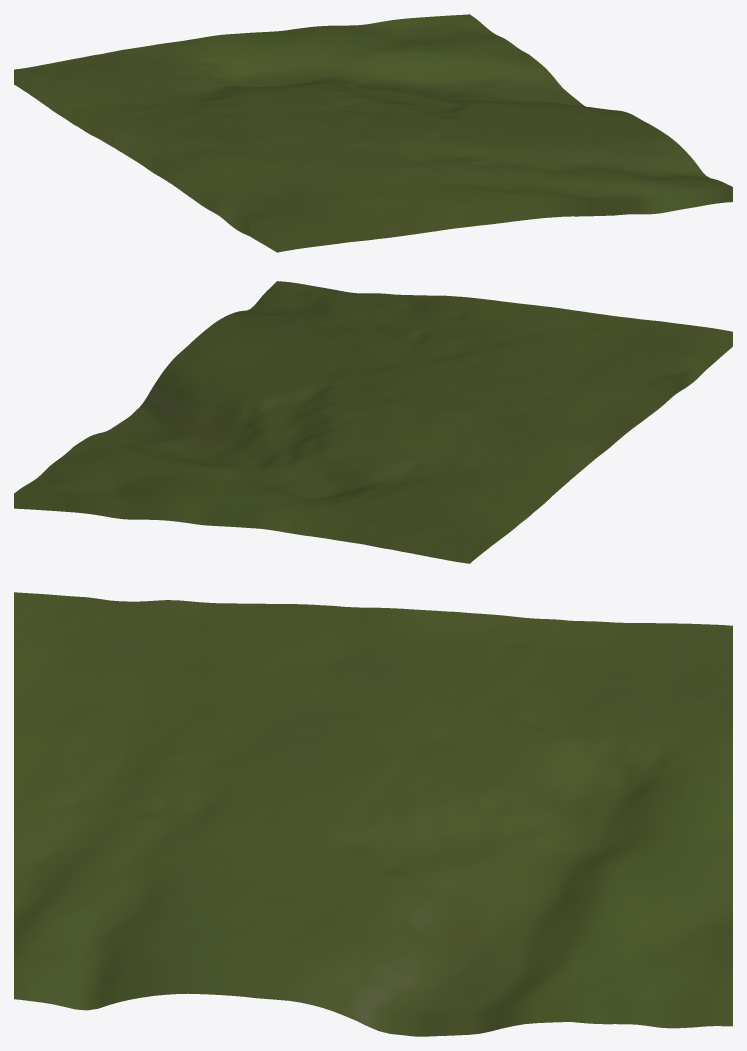
Rendered from terrain_6_-19.glb.
3 renders of one model, top to bottom at view 1: azimuth 30°, elevation 25°; view 2: azimuth 150°, elevation 25°; view 3: azimuth 270°, elevation 25°, orthographic. The views are drawn at different scales.
Parts seen in each view (by area): view 1: terrain_6_-19; view 2: terrain_6_-19; view 3: terrain_6_-19.
Part boxes in pixels (x1=…): terrain_6_-19: x1=14, y1=14, x2=732, y2=252; terrain_6_-19: x1=14, y1=281, x2=732, y2=563; terrain_6_-19: x1=14, y1=592, x2=732, y2=1036.
Bounding box in the file's own units: 256 × 55.27 × 256.
